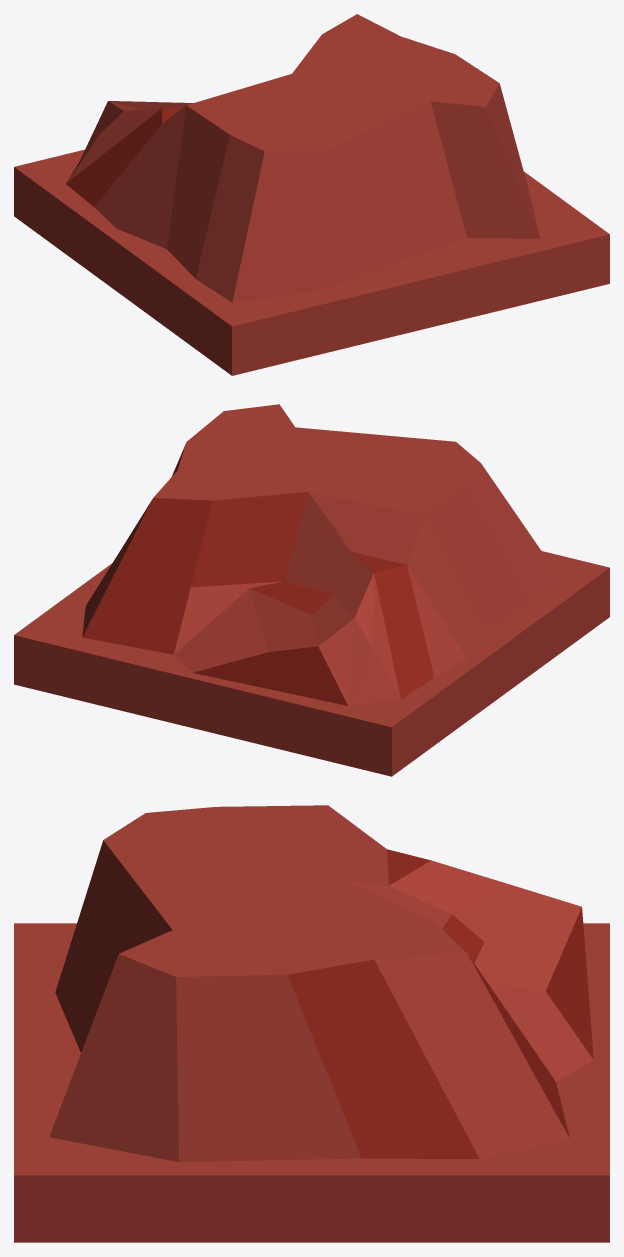
Rendered from Field_3.fbx.
3 views of the same model, one above another, from view 1: azimuth 30°, elevation 25°; view 2: azimuth 150°, elevation 25°; view 3: azimuth 270°, elevation 25° (orthographic). The views are drawn at different scales.
Visible parts, largest first — view 1: Plane.008; view 2: Plane.008; view 3: Plane.008.
Part boxes in pixels (x1,y1,x2,y2): Plane.008: (14,14,609,375); Plane.008: (14,404,609,776); Plane.008: (14,805,609,1242).
Size of the model in its own units: 400 by 172 by 400.
